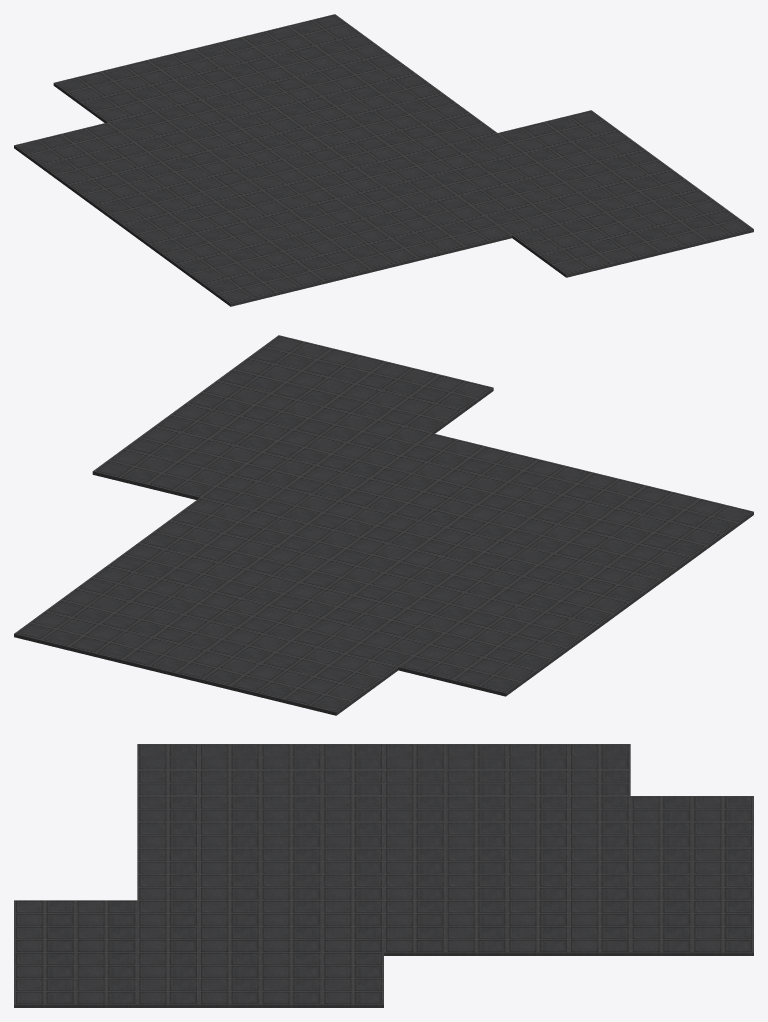
Rendered from Homeworld_Interior_Dq_Room_F_Ceiling_01_Vo.fbx.
3 views of the same model, one above another, from view 1: azimuth 30°, elevation 25°; view 2: azimuth 150°, elevation 25°; view 3: azimuth 270°, elevation 25° (orthographic). The views are drawn at different scales.
Parts seen in each view (by area): view 1: Homeworld_Interior_Dq_Room_F_Ceiling_01_Vo; view 2: Homeworld_Interior_Dq_Room_F_Ceiling_01_Vo; view 3: Homeworld_Interior_Dq_Room_F_Ceiling_01_Vo.
Boxes of the visible parts, <box> form: Homeworld_Interior_Dq_Room_F_Ceiling_01_Vo: <box>14,14,753,306</box>; Homeworld_Interior_Dq_Room_F_Ceiling_01_Vo: <box>14,335,753,715</box>; Homeworld_Interior_Dq_Room_F_Ceiling_01_Vo: <box>14,744,753,1007</box>.
Size of the model in its own units: 25 by 0.15 by 30.
